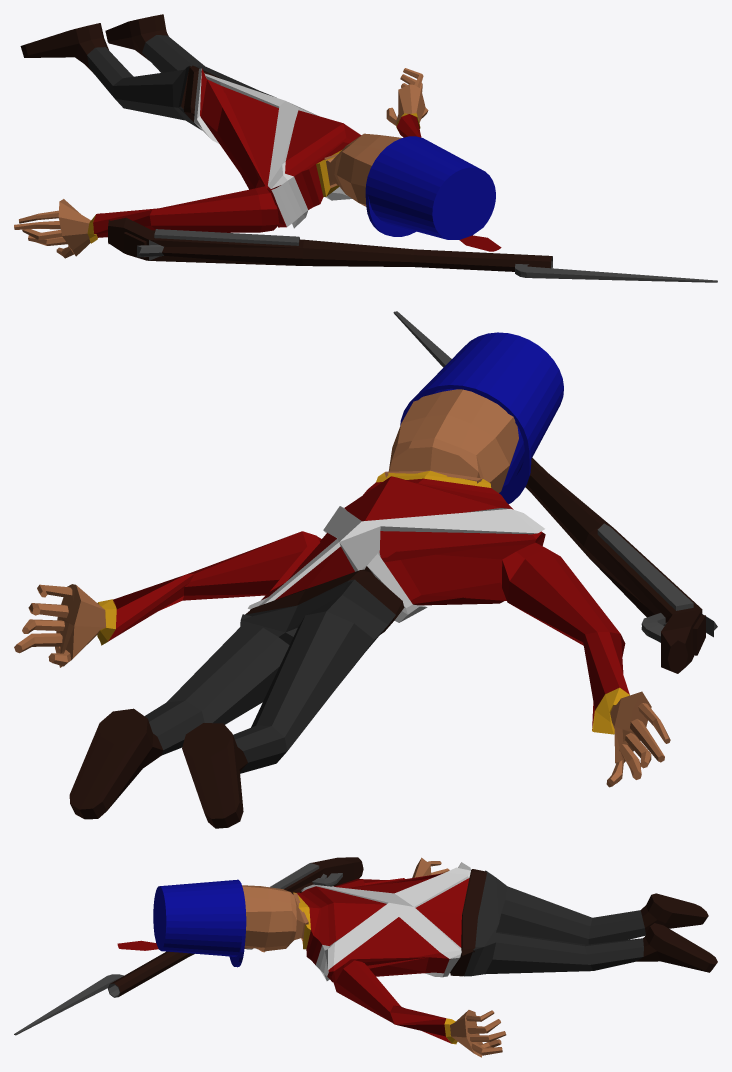
Rendered from Frame3.obj.
3 renders of one model, top to bottom at view 1: azimuth 30°, elevation 25°; view 2: azimuth 150°, elevation 25°; view 3: azimuth 270°, elevation 25°, orthographic. The views are drawn at different scales.
Parts seen in each view (by area): view 1: {Man}_Circle, {Mesket}_Cube.001; view 2: {Man}_Circle, {Mesket}_Cube.001; view 3: {Man}_Circle, {Mesket}_Cube.001.
Part boxes in pixels (x1=…): {Man}_Circle: x1=14, y1=14, x2=501, y2=258; {Mesket}_Cube.001: x1=108, y1=217, x2=717, y2=282; {Man}_Circle: x1=14, y1=332, x2=670, y2=828; {Mesket}_Cube.001: x1=393, y1=311, x2=717, y2=673; {Man}_Circle: x1=117, y1=857, x2=717, y2=1057; {Mesket}_Cube.001: x1=14, y1=857, x2=363, y2=1035.
Bounding box in the file's own units: 12.65 × 3.99 × 20.31.
